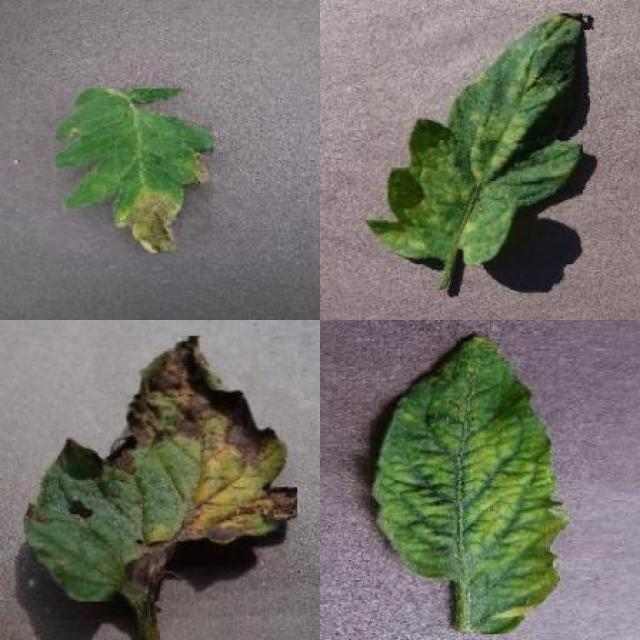Early Blight: (29, 337, 297, 602)
Late Blight: (56, 88, 214, 253)
Leaf Mold: (366, 14, 583, 265)
Mosaic Virus: (371, 335, 568, 635)
